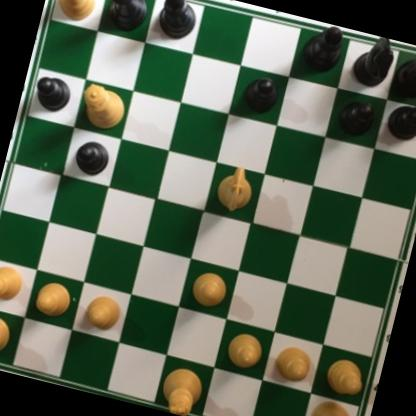black-bishop: (299, 20, 349, 76), (152, 0, 203, 45)
black-king: (97, 0, 156, 36)
black-knight: (348, 33, 401, 93)
black-pawn: (334, 94, 378, 143), (238, 72, 281, 119), (29, 73, 75, 116), (71, 137, 114, 180), (383, 98, 416, 145)
black-rook: (387, 42, 416, 106)
white-bishop: (49, 0, 103, 25)
white-king: (155, 363, 207, 416)
white-knight: (212, 160, 258, 217)
white-pawn: (318, 353, 368, 400), (269, 340, 317, 387), (221, 328, 268, 375), (30, 277, 77, 323), (188, 266, 232, 313), (82, 290, 128, 334), (0, 258, 27, 304)
white-queen: (75, 77, 132, 131)
white-rook: (300, 392, 363, 416), (0, 306, 17, 367)
